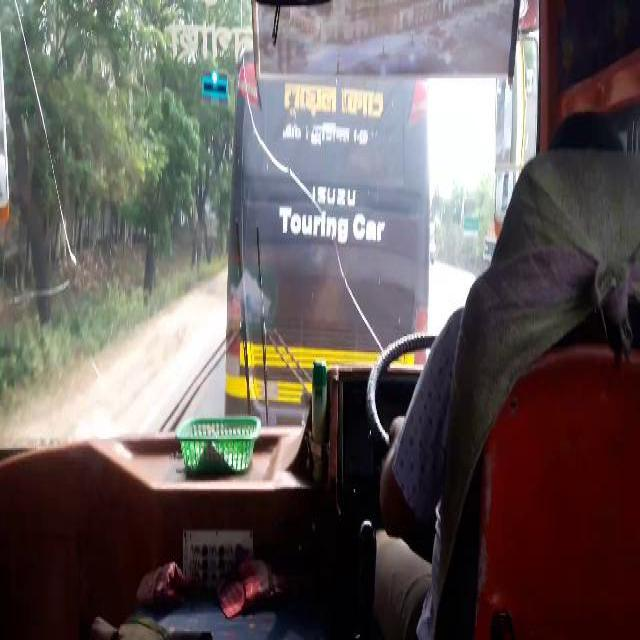Truck: (227, 62, 428, 422)
